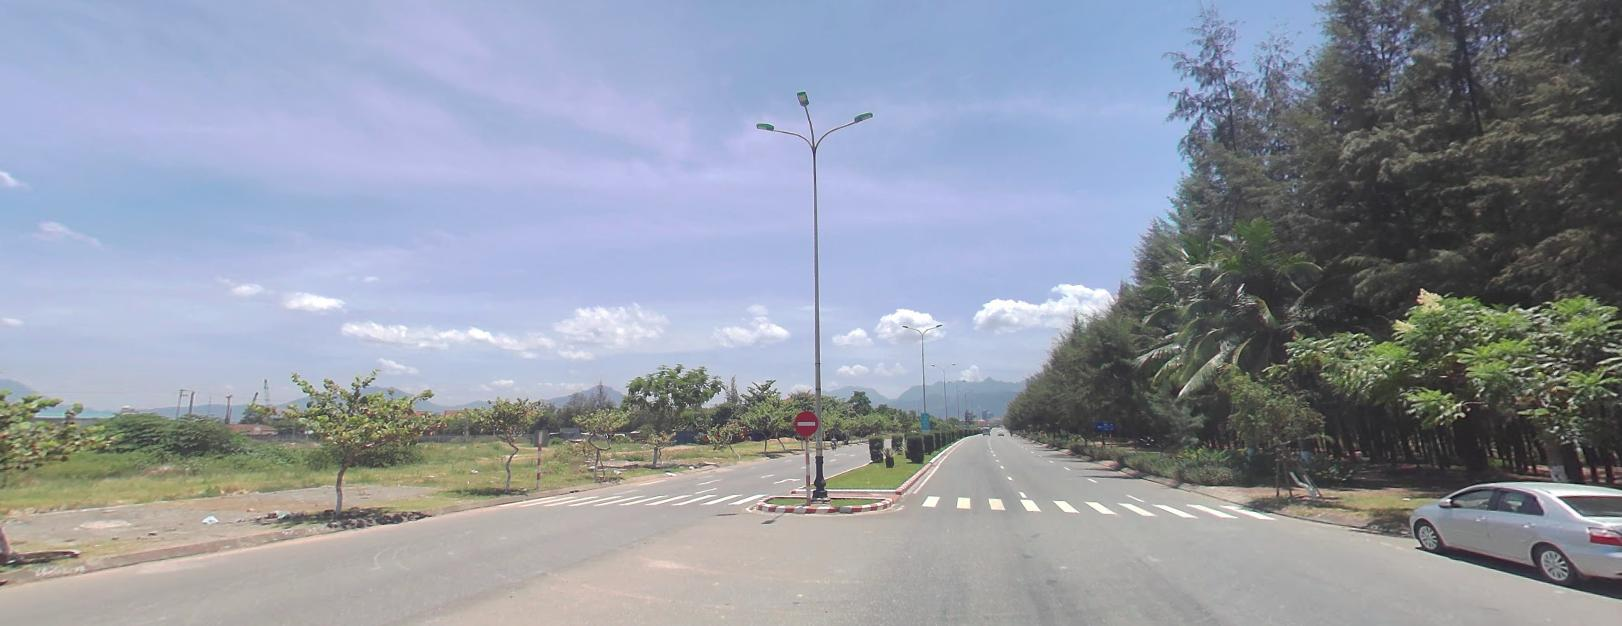Cam nguoc chieu: (793, 409, 818, 435)
